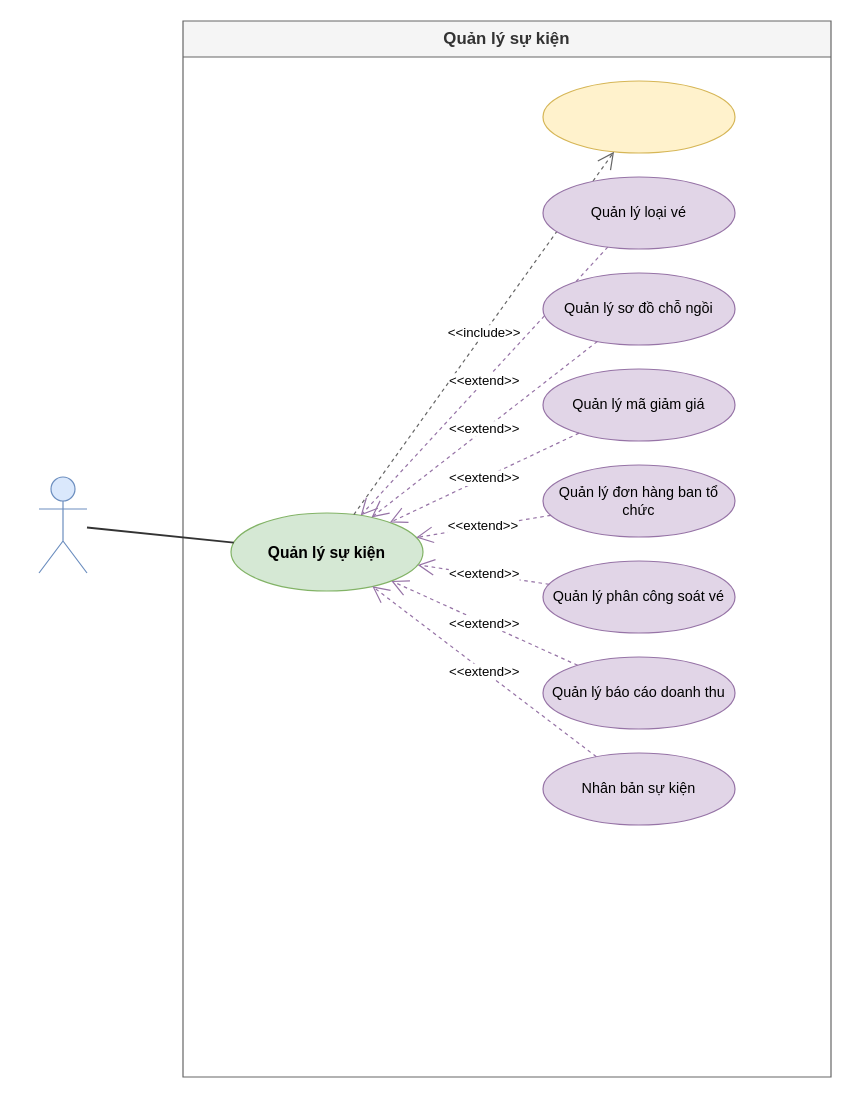
Image size: 852x1098. Some labels were removed from this diagram. The shapes that lost their labels are listed below. From the top down, each one's centre as x and y in pixels, then its label:
At (x=638, y=116): "Xem danh sách sự kiện".
At (x=62, y=524): "Ban tổ chức".
